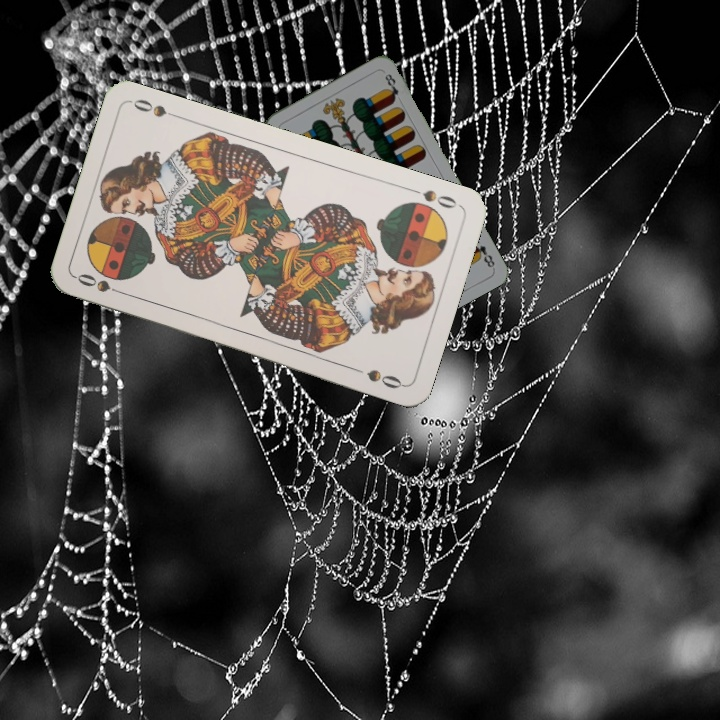E8: (468, 240, 497, 270)
SO: (73, 269, 130, 299), (405, 184, 463, 211)
